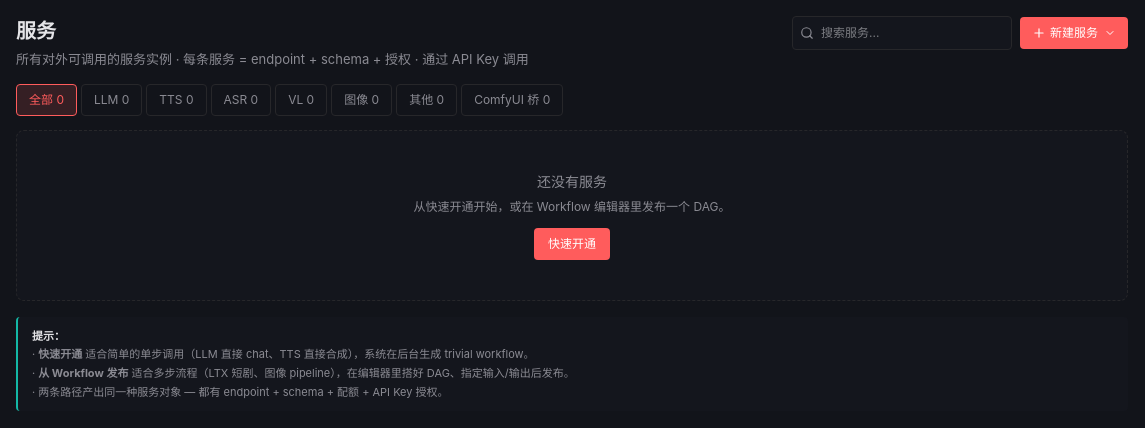
Test case: ServicesList card click → navigate › 「新建服务」菜单里有「导入 ComfyUI 工作流」入口
Click the button "新建服务": (1074, 33) x1=1020 y1=17 x2=1128 y2=49
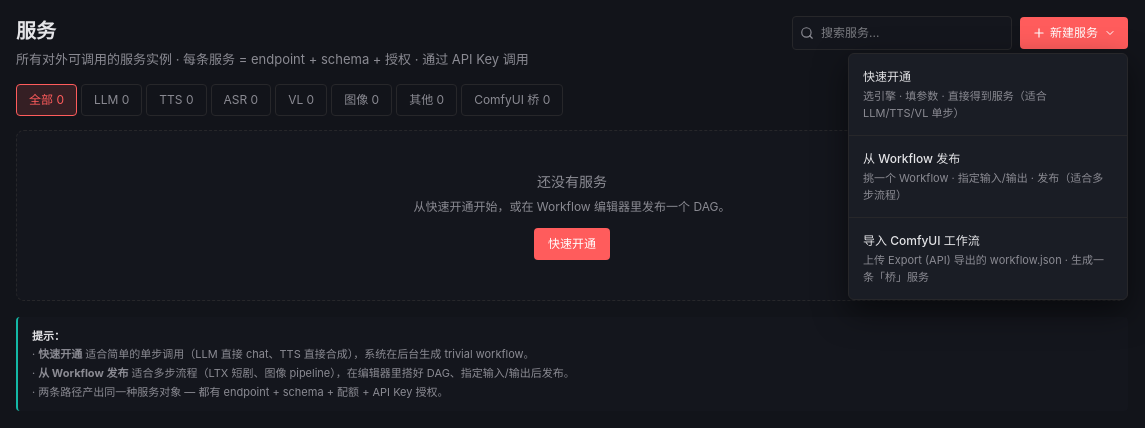
Expected: the menu item "导入 ComfyUI 工作流 上传 Export (API) 导出的 workflow.json · 生成一条「桥」服务" is shown, x1=849 y1=222 x2=1127 y2=295
